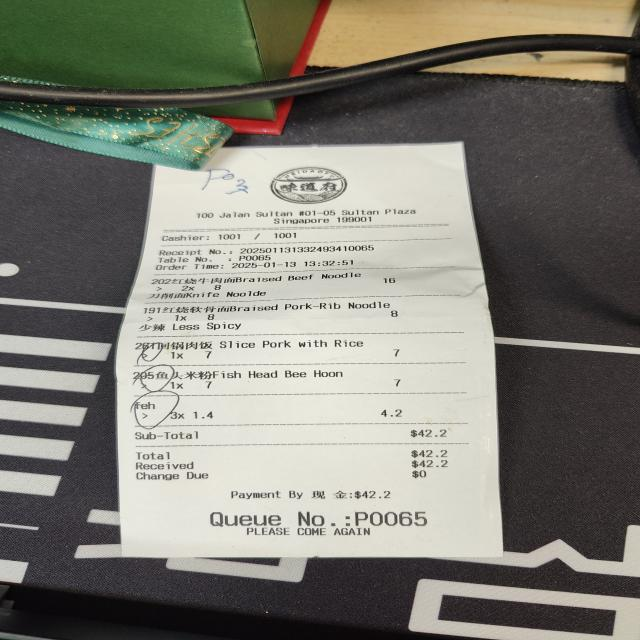bill_region: (128, 272, 464, 483)
